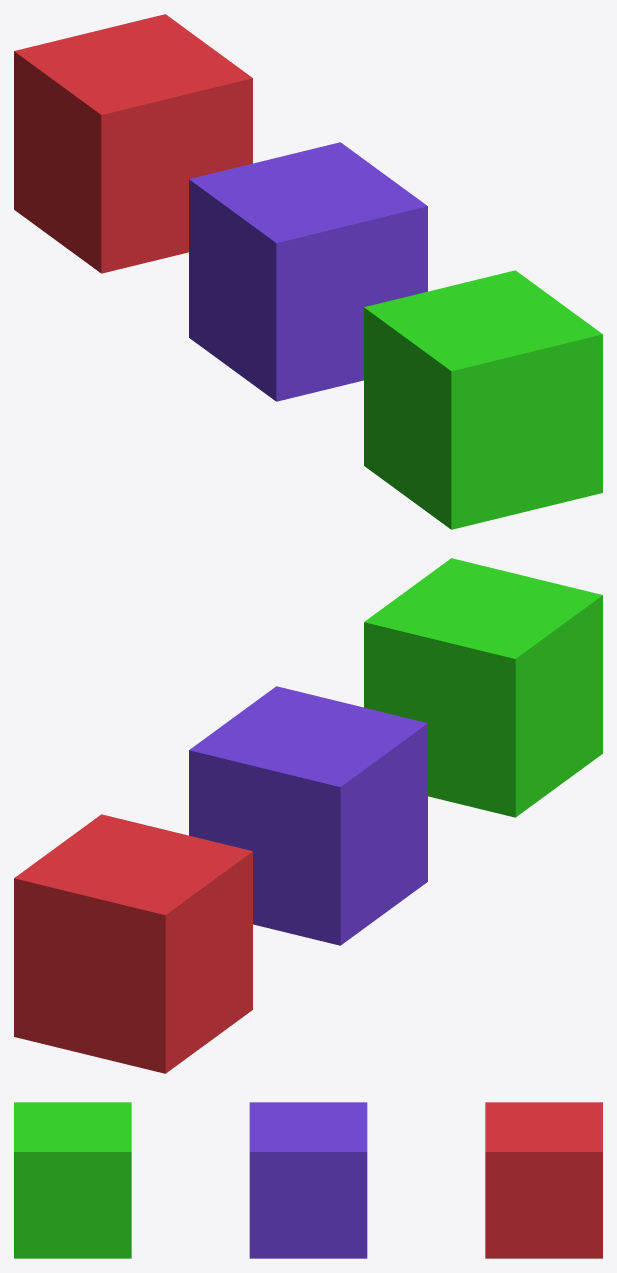
The model's file is three_cubes.gltf.
The picture shows the model from 3 angles, top to bottom: view 1: azimuth 30°, elevation 25°; view 2: azimuth 150°, elevation 25°; view 3: azimuth 270°, elevation 25°; orthographic projection. The views are drawn at different scales.
Visible parts, largest first — view 1: Cube.002, Cube, Cube.001; view 2: Cube.001, Cube, Cube.002; view 3: Cube, Cube.001, Cube.002.
Boxes of the visible parts, x1,y1,x2,y2 form: Cube.002: [364, 270, 602, 529]; Cube: [189, 142, 427, 401]; Cube.001: [14, 14, 252, 273]; Cube.001: [14, 814, 252, 1073]; Cube: [189, 686, 427, 945]; Cube.002: [364, 558, 602, 817]; Cube: [249, 1102, 367, 1258]; Cube.001: [485, 1102, 602, 1258]; Cube.002: [14, 1102, 131, 1258].
Size of the model in its own units: 2 by 2 by 10.
